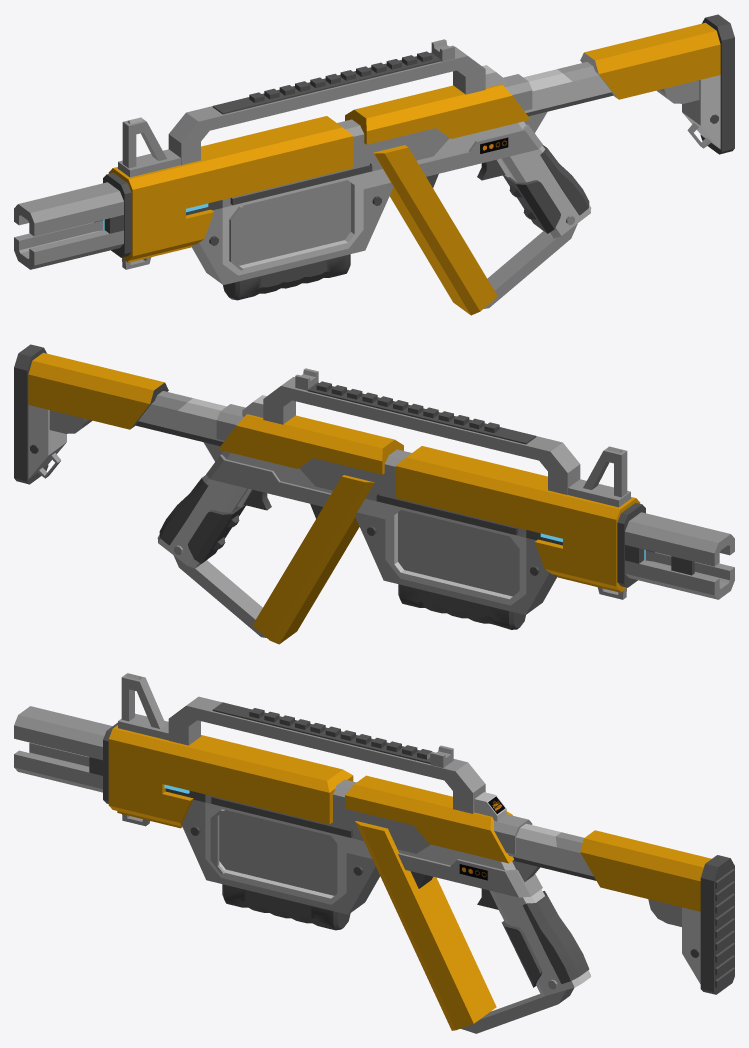
The picture shows the model from 3 angles, top to bottom: view 1: azimuth 30°, elevation 25°; view 2: azimuth 150°, elevation 25°; view 3: azimuth 330°, elevation 25°; orthographic projection.
Visible parts, largest first — view 1: SM_AR01; view 2: SM_AR01; view 3: SM_AR01.
Boxes of the visible parts, x1=… form: SM_AR01: x1=14, y1=14, x2=734, y2=315; SM_AR01: x1=14, y1=344, x2=734, y2=644; SM_AR01: x1=14, y1=673, x2=734, y2=1033.
Bounding box in the file's own units: 78.1 × 28.7 × 4.63.
Materials: 6 (1 with a texture image).
